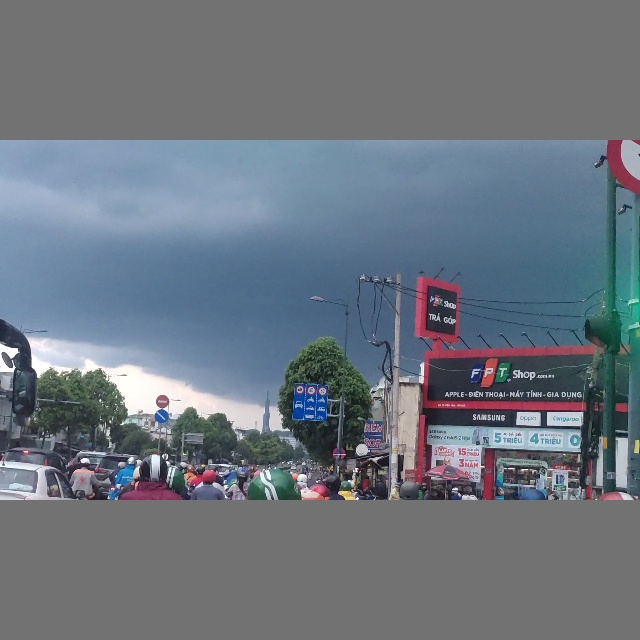P.102: (156, 394, 169, 408)
R.302a: (155, 409, 169, 423)
R.415a: (293, 382, 328, 421)
